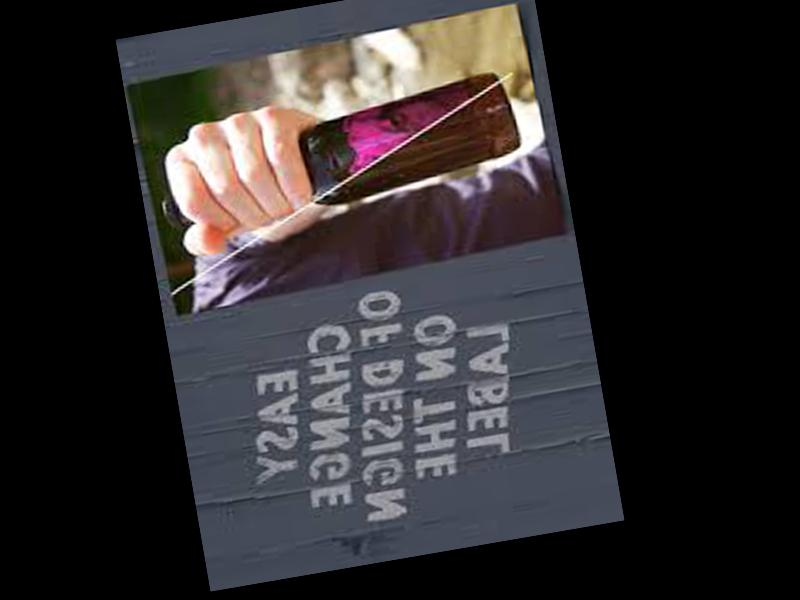Beer: (153, 73, 525, 235)
